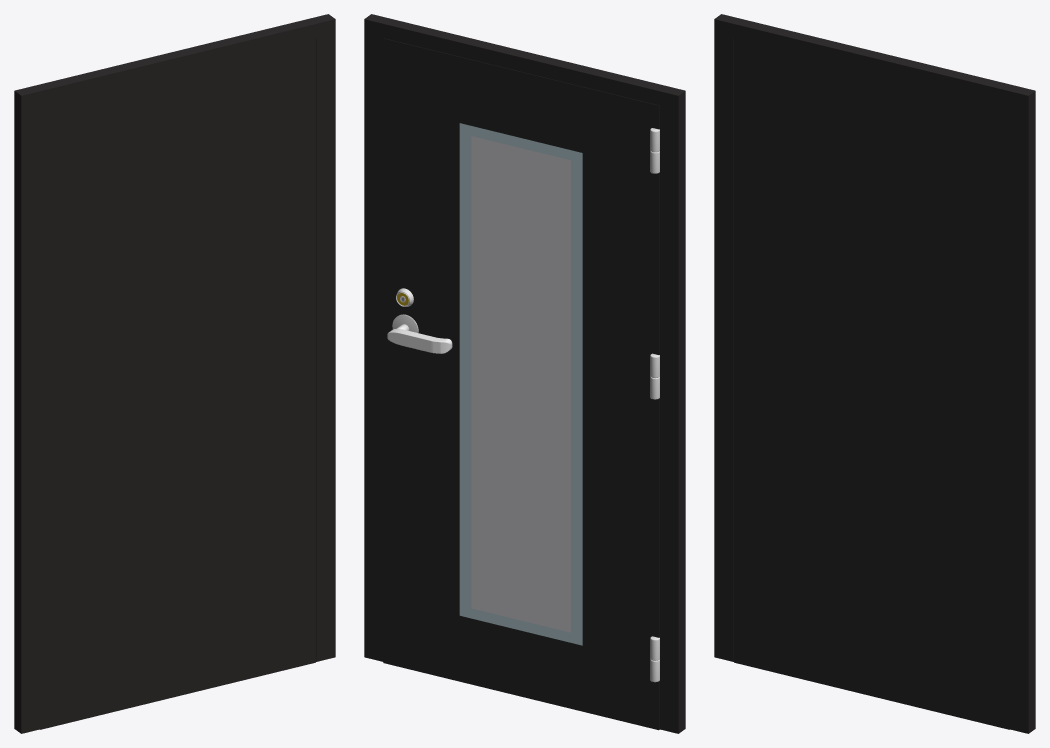
Rendered from Door.fbx.
The picture shows the model from 3 angles, left to right: view 1: azimuth 30°, elevation 25°; view 2: azimuth 150°, elevation 25°; view 3: azimuth 330°, elevation 25°; orthographic projection.
Parts seen in each view (by area): view 1: Cube, Frame.001; view 2: Cube, Frame.001, 立方体; view 3: Cube, Frame.001.
Part boxes in pixels (x1,y1,x2,y2): Cube: [40, 38, 315, 729]; Frame.001: [14, 14, 335, 733]; Cube: [383, 38, 659, 730]; Frame.001: [364, 14, 685, 733]; 立方体: [387, 329, 452, 353]; Cube: [734, 38, 1009, 729]; Frame.001: [714, 14, 1035, 733].
Bounding box in the file's own units: 388 × 753 × 44.16.
